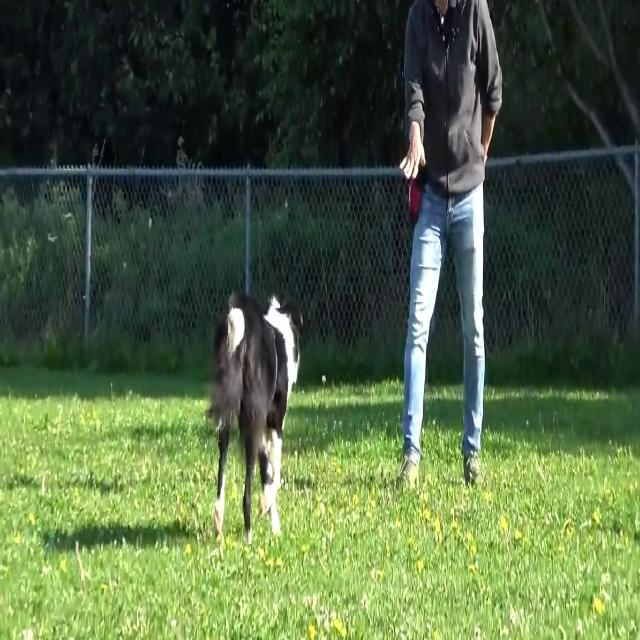Unleashed_Dog: (210, 235, 468, 544)
